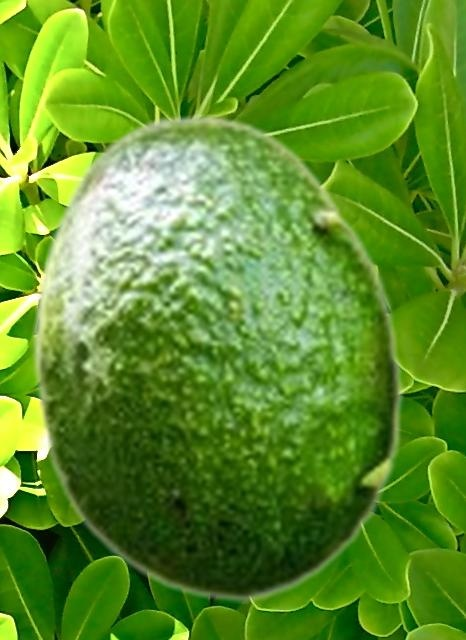avocado: (29, 114, 404, 602)
